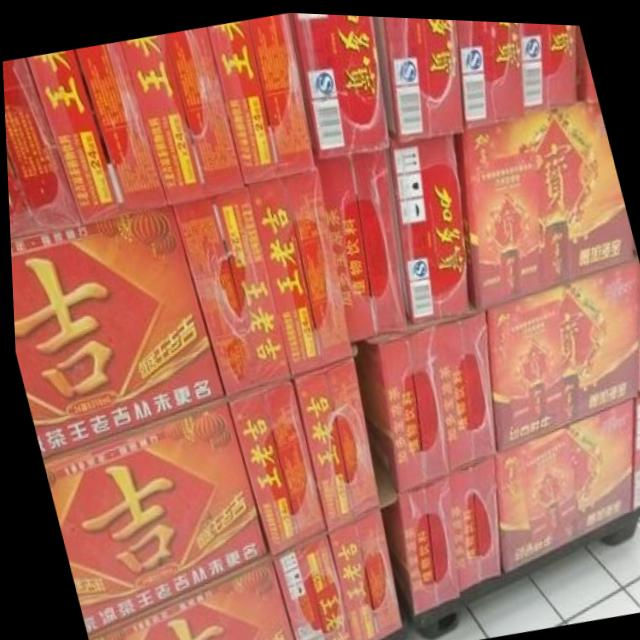box: (8, 203, 221, 458), (38, 394, 263, 635), (453, 97, 631, 303), (483, 251, 636, 451), (26, 40, 165, 224), (168, 186, 290, 394), (490, 393, 629, 569), (121, 24, 244, 204), (247, 169, 352, 374), (206, 10, 317, 186), (81, 551, 289, 640), (221, 375, 321, 551), (316, 146, 406, 339), (349, 316, 446, 489), (387, 131, 467, 321), (291, 351, 376, 529), (290, 10, 391, 157), (2, 57, 79, 242), (373, 13, 462, 141), (377, 470, 455, 613), (430, 297, 493, 470), (321, 501, 398, 640), (265, 529, 347, 640), (457, 16, 524, 123), (444, 451, 496, 587), (521, 18, 578, 108), (576, 20, 598, 101), (627, 390, 640, 507), (635, 251, 640, 392)
